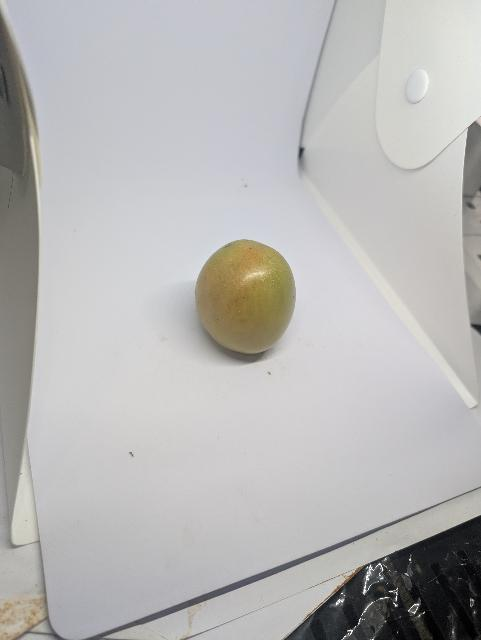breaker: (191, 237, 303, 360)
